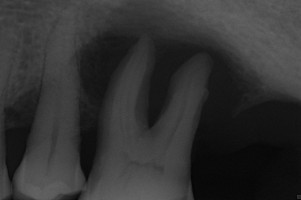Dental Caries: (77, 0, 301, 150)
